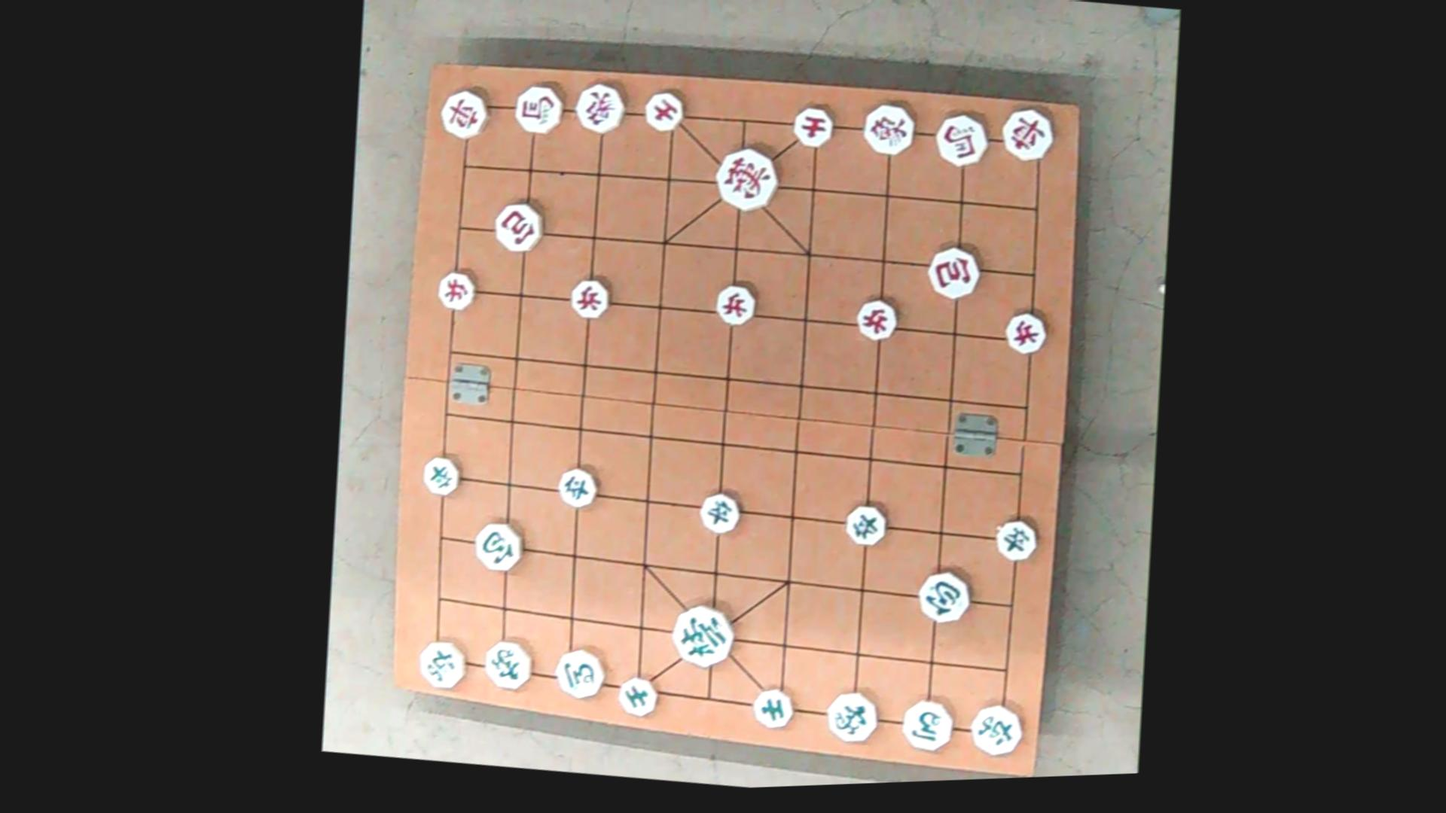cha_green: (968, 697, 1026, 757), (417, 636, 471, 693)
cha_red: (998, 102, 1057, 165), (436, 85, 490, 142)
jol_green: (993, 515, 1039, 565), (845, 502, 889, 550), (697, 489, 741, 536), (557, 459, 599, 508), (420, 450, 462, 498)
jol_red: (850, 295, 900, 343), (1003, 306, 1049, 355), (713, 278, 756, 328), (435, 266, 477, 315), (568, 273, 609, 321)
ma_green: (898, 694, 955, 753), (552, 644, 606, 702)
ma_red: (932, 111, 988, 171), (512, 78, 566, 136)
po_green: (915, 566, 971, 627), (471, 516, 523, 573)
po_red: (926, 239, 982, 299), (494, 198, 548, 255)
sa_green: (612, 670, 659, 717), (752, 685, 795, 731)
sa_red: (638, 87, 686, 134), (787, 103, 837, 147)
sang_green: (476, 632, 536, 694), (825, 687, 880, 744)
sang_red: (858, 98, 916, 157), (569, 77, 631, 132)
wang_green: (668, 597, 736, 669)
wang_red: (715, 140, 782, 211)
